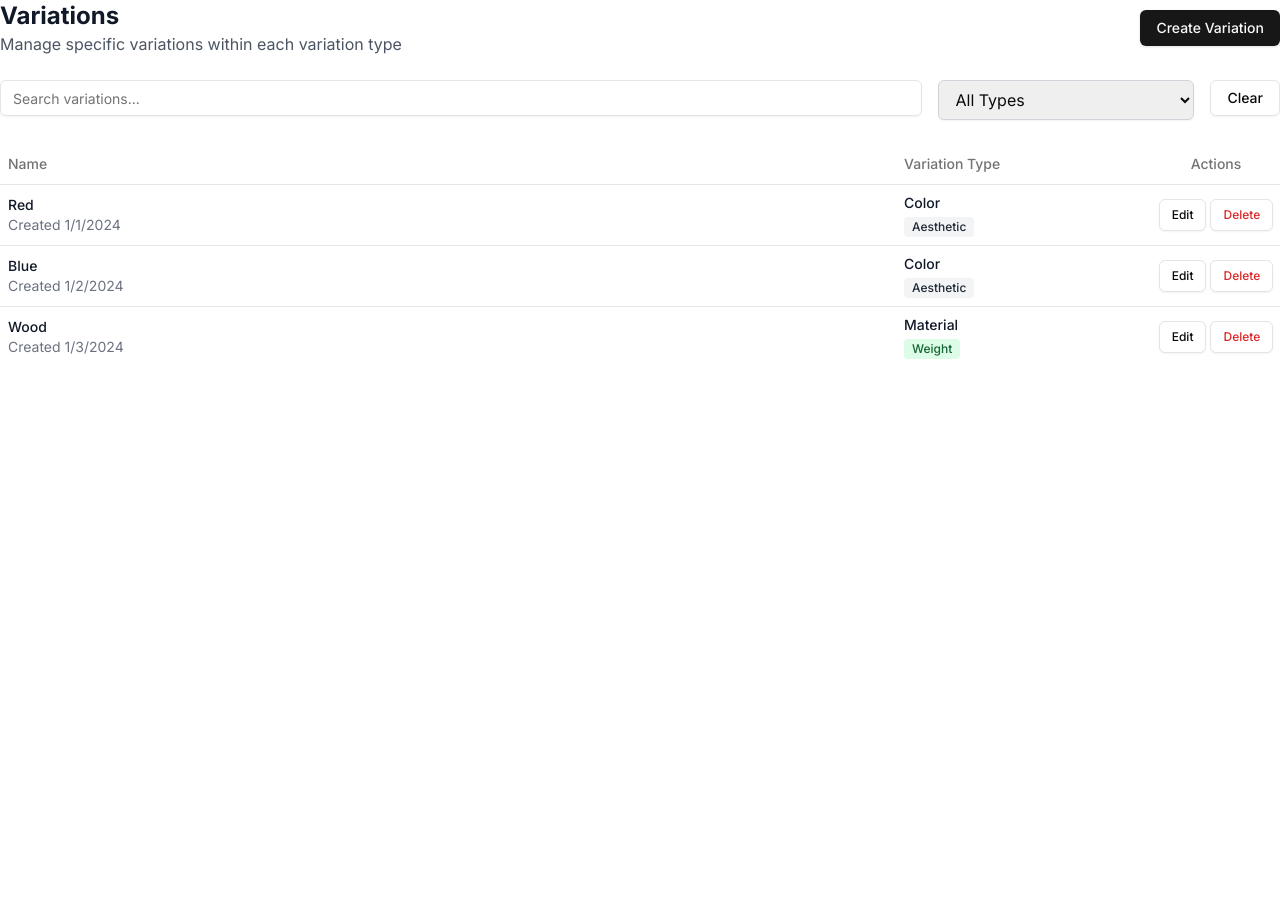
Test: VariationList › opens create modal when create button is clicked
Click the button "Create Variation" at (1210, 28), box [1140, 10, 1279, 46]
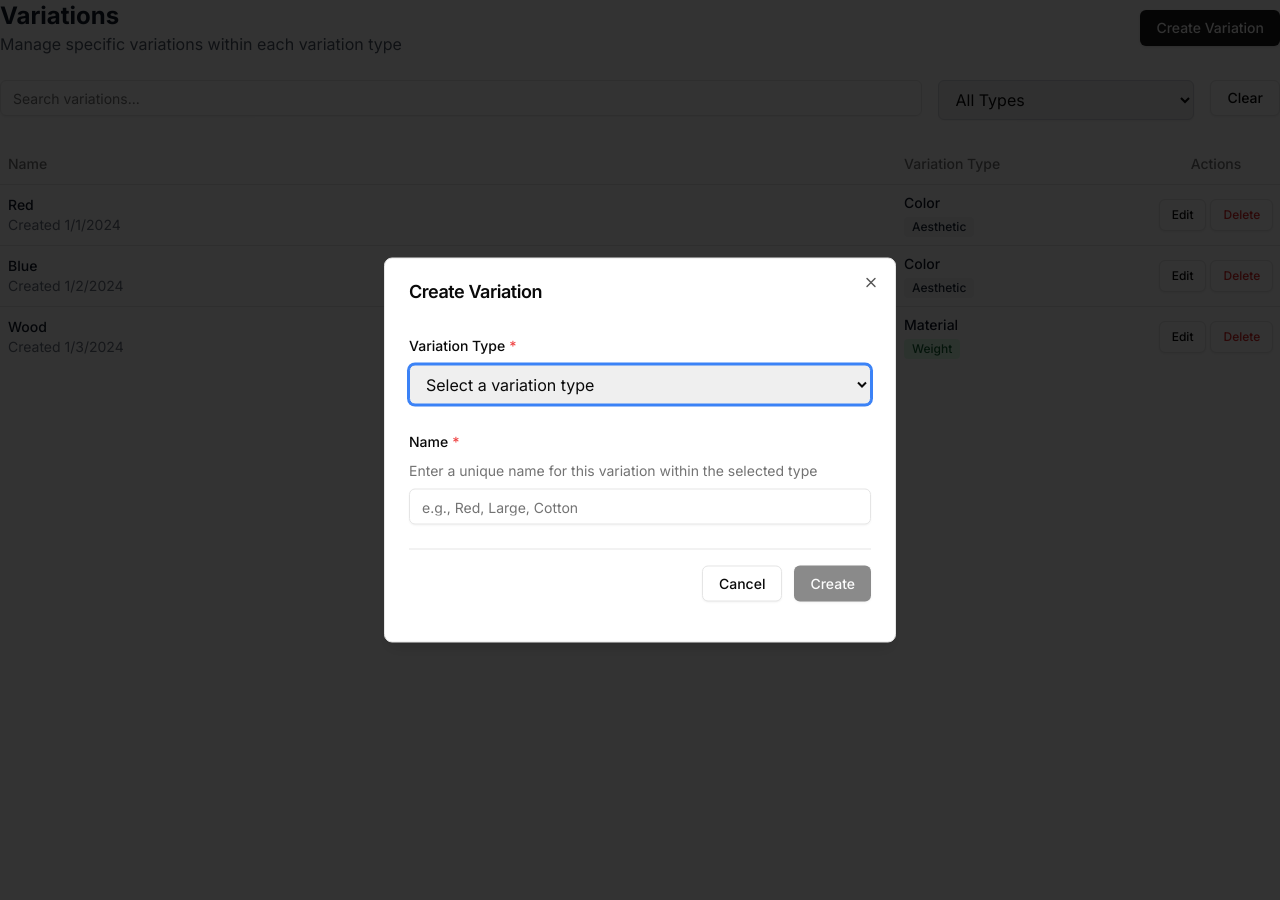
Now the heading "Create Variation" is shown, box [409, 280, 542, 302]
